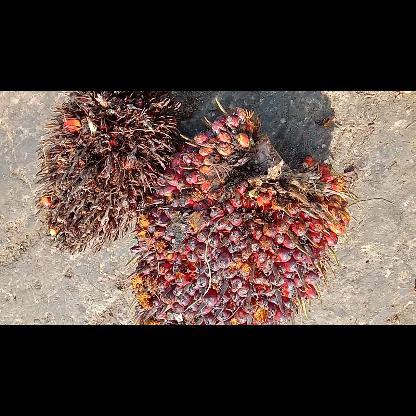TBS masak: (127, 98, 356, 324)
Terlalu masak: (37, 90, 181, 252)
